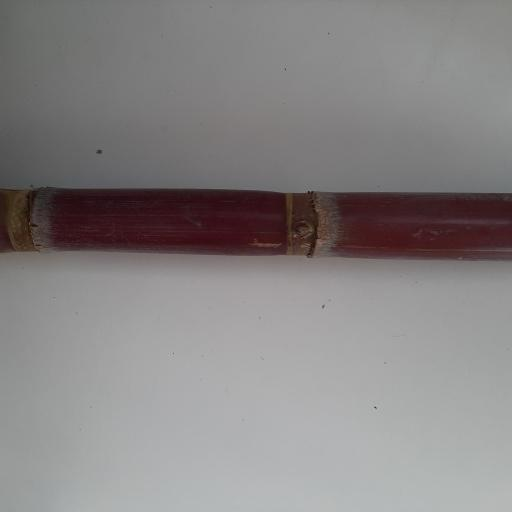Bud: (290, 220, 314, 238)
